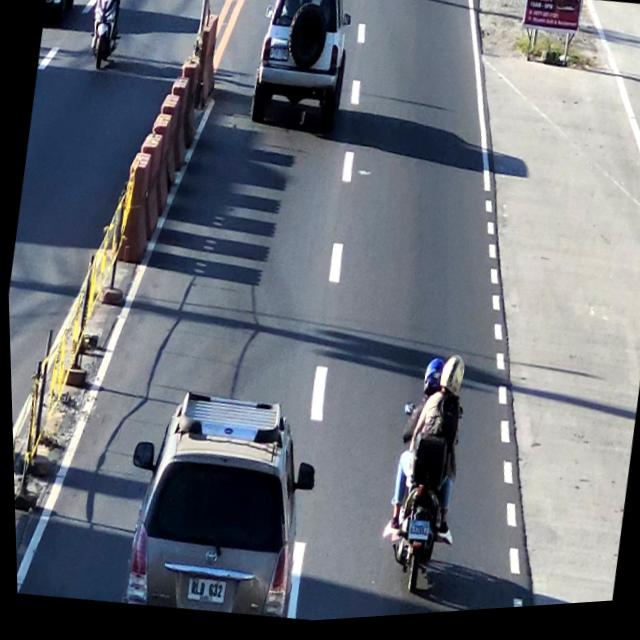Car: (116, 383, 316, 630), (246, 0, 360, 138)
License-Plate: (181, 575, 225, 609), (402, 520, 429, 549), (264, 45, 291, 69)
Motorcycle: (370, 353, 477, 610)
